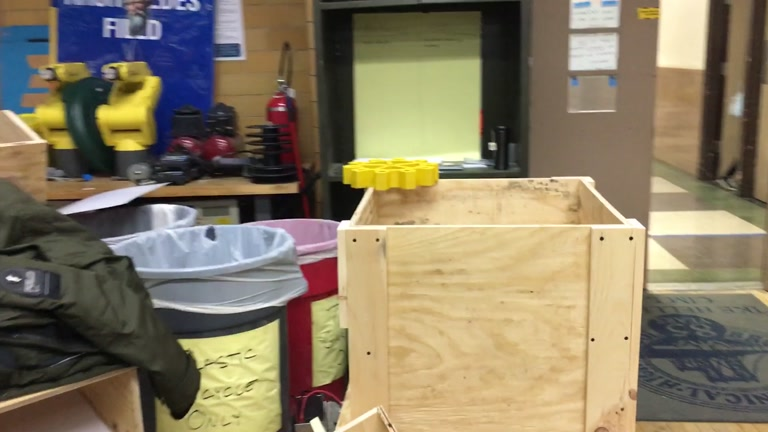gear: (341, 156, 440, 191)
